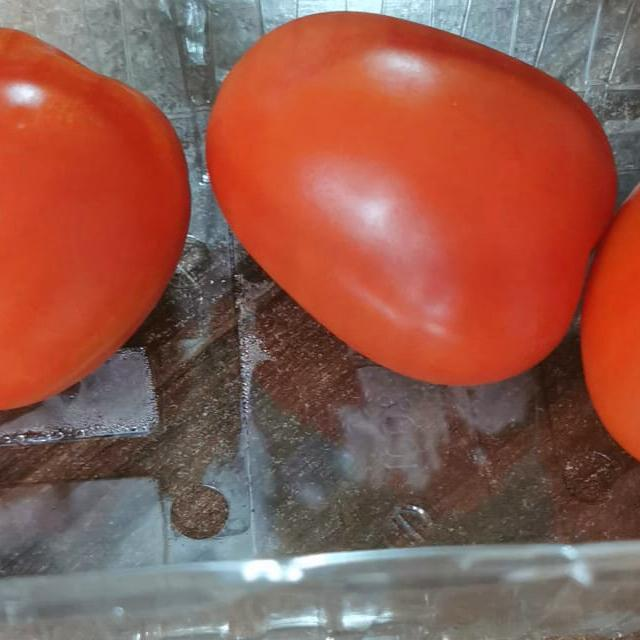tomato: (209, 0, 606, 393), (0, 0, 199, 440)
